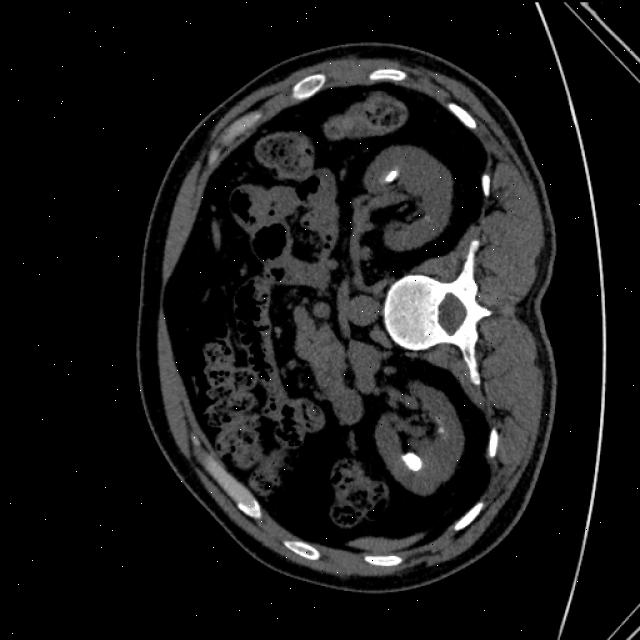kidneystone: (401, 451, 422, 470), (384, 170, 398, 182)
